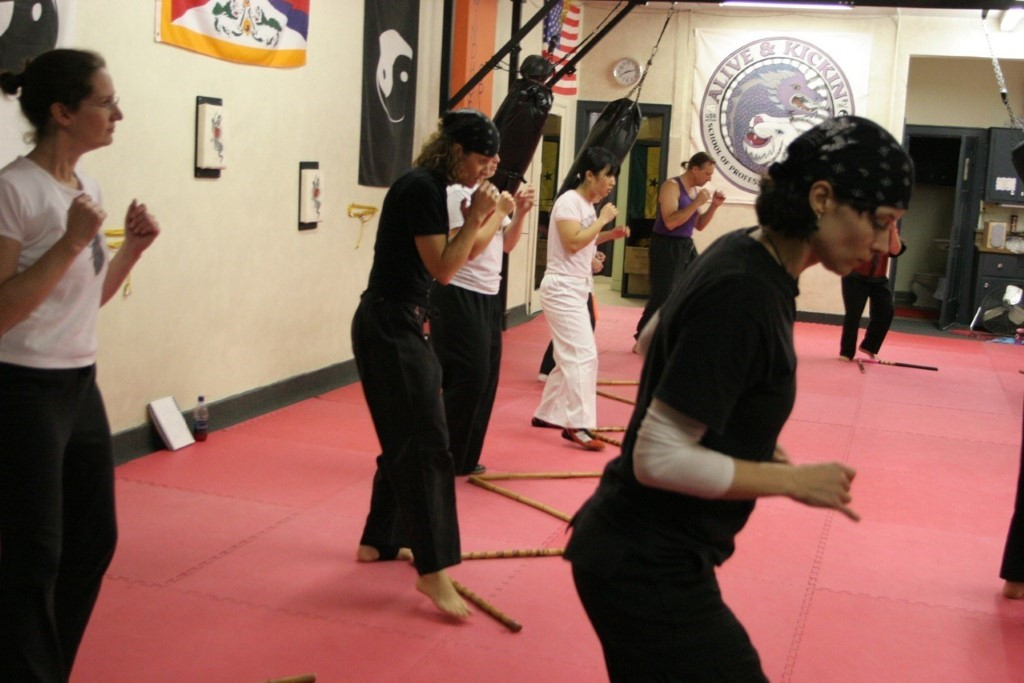baston_e: (473, 475, 567, 522), (450, 575, 514, 629), (459, 545, 564, 561), (481, 468, 601, 480), (859, 356, 935, 371), (596, 387, 633, 406), (590, 430, 619, 447), (596, 379, 640, 386), (594, 425, 628, 431)
baston_v: (511, 620, 526, 635), (466, 472, 478, 484), (932, 365, 940, 372)
